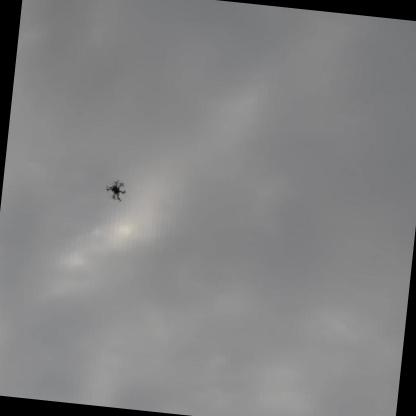drone: (100, 177, 132, 204)
